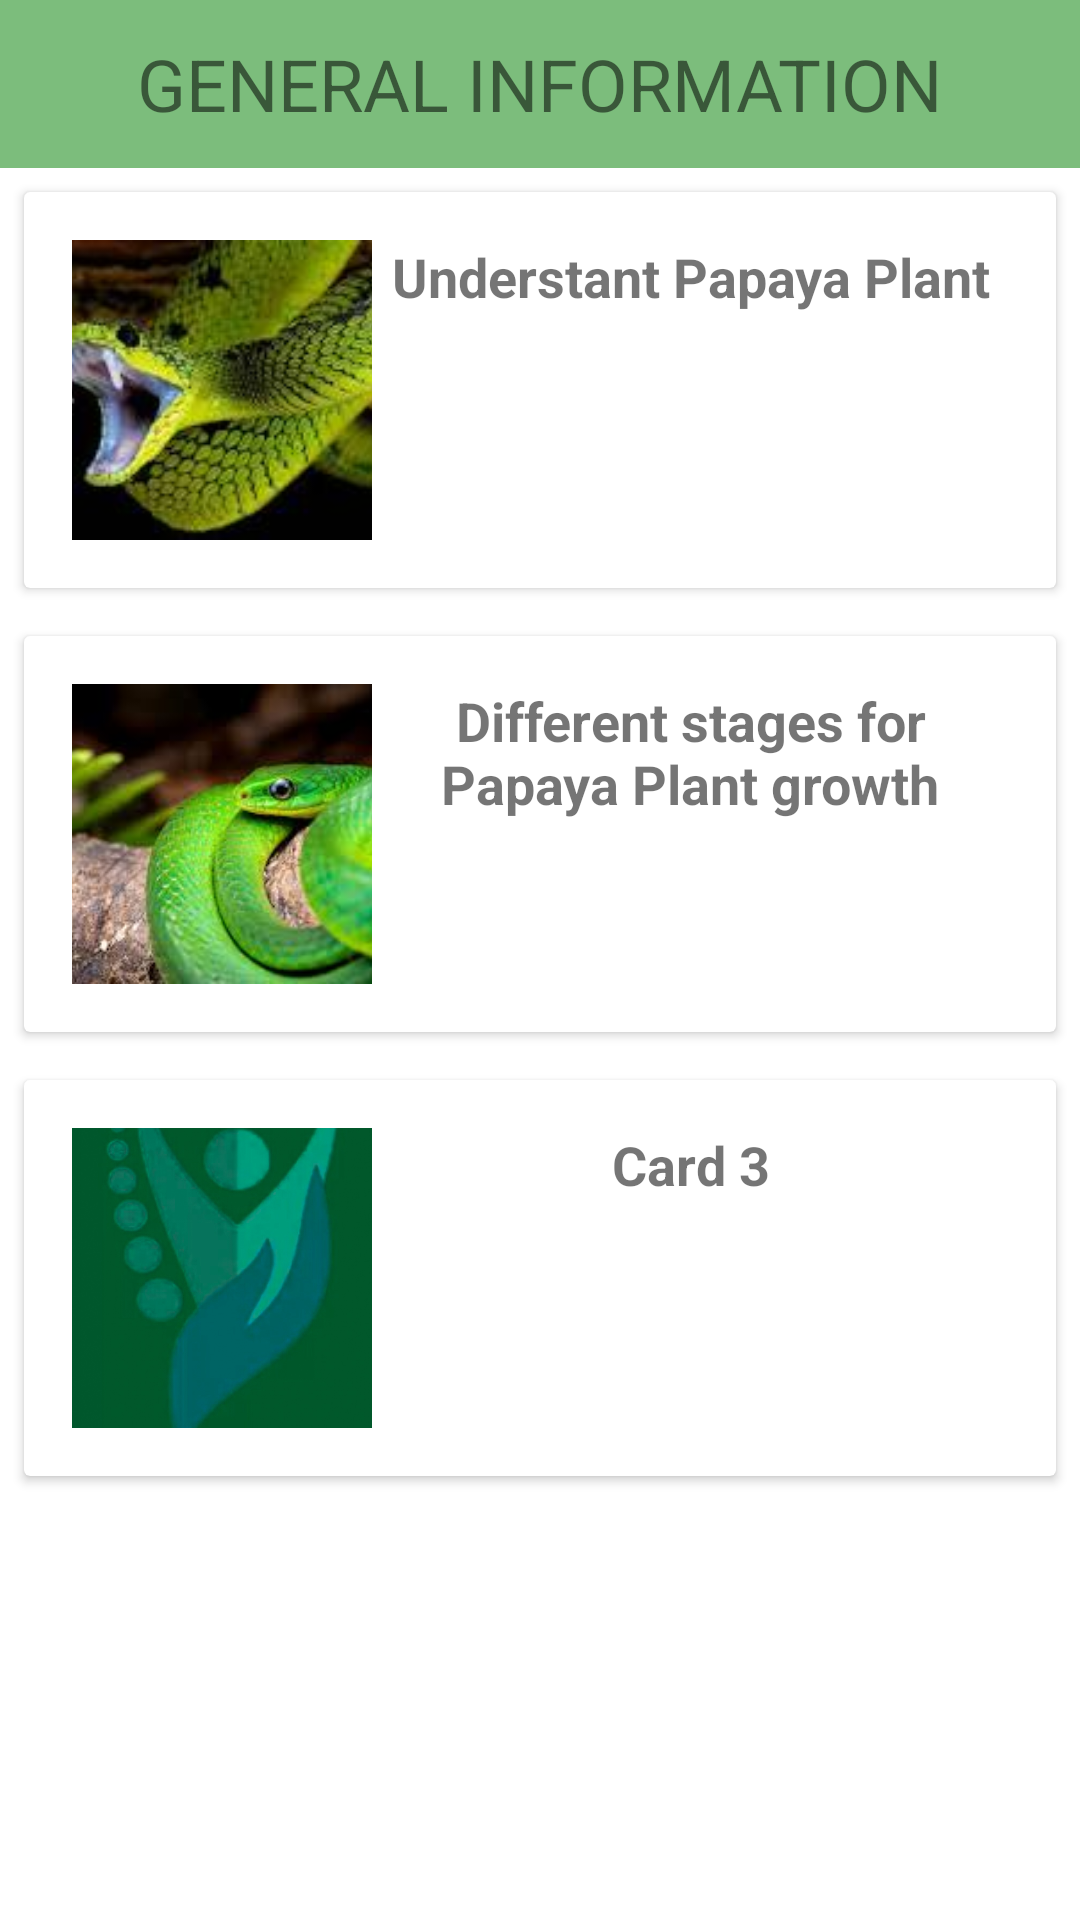

Named icons in this screenshot (1080px x 1920px) and their centers, (x,y):
nonvenomous: (222,834)
venmous: (222,390)
